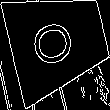O_E: (31, 15, 85, 70)
